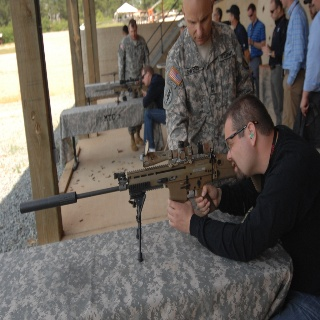rifle: (19, 139, 241, 266)
